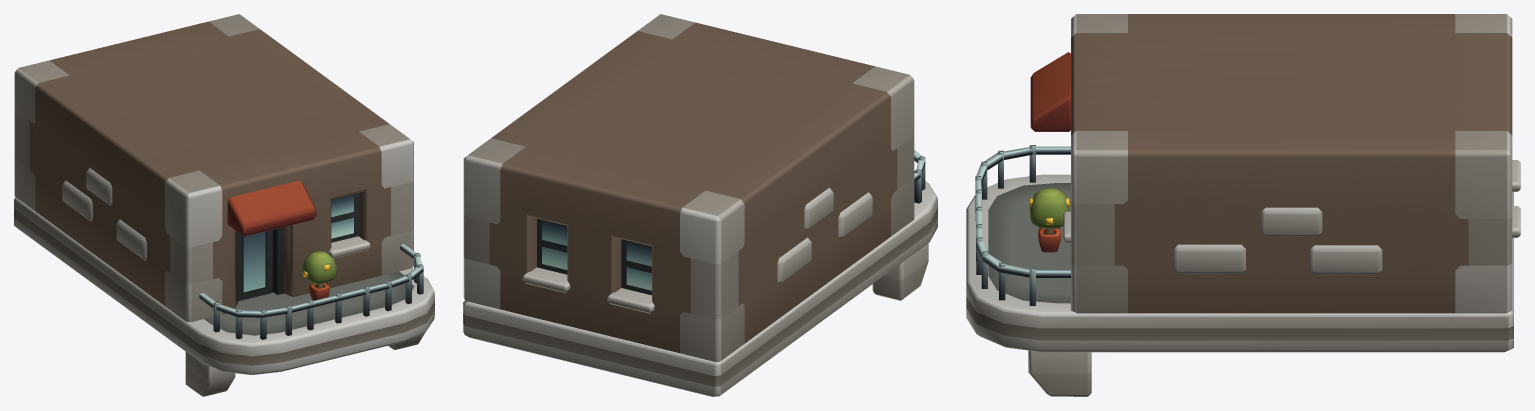
File: appartment_type1_x3_balcony_beige.fbx
The picture shows the model from 3 angles, left to right: view 1: azimuth 30°, elevation 25°; view 2: azimuth 150°, elevation 25°; view 3: azimuth 270°, elevation 25°; orthographic projection. The views are drawn at different scales.
Visible parts, largest first — view 1: appartment_type1_x3_balcony_beige, door_appartment_type1_x3_balcony_grey; view 2: appartment_type1_x3_balcony_beige; view 3: appartment_type1_x3_balcony_beige.
Part boxes in pixels (x1,y1,x2,y2): appartment_type1_x3_balcony_beige: (14,14,434,396); door_appartment_type1_x3_balcony_grey: (237,230,272,301); appartment_type1_x3_balcony_beige: (463,14,937,396); appartment_type1_x3_balcony_beige: (966,14,1520,396).
Size of the model in its own units: 628 by 505 by 1017.
